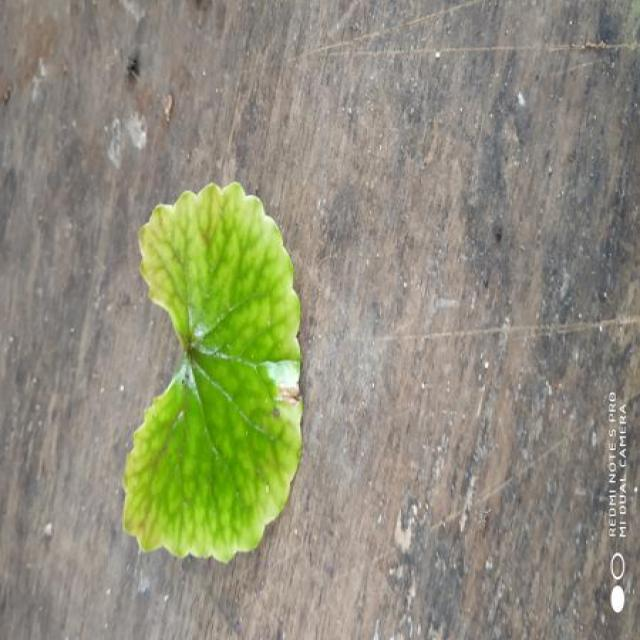defectedbhrami: (123, 182, 302, 562)
